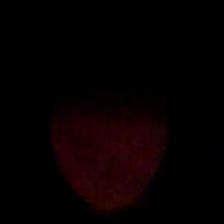fertile: (49, 50, 169, 212)
